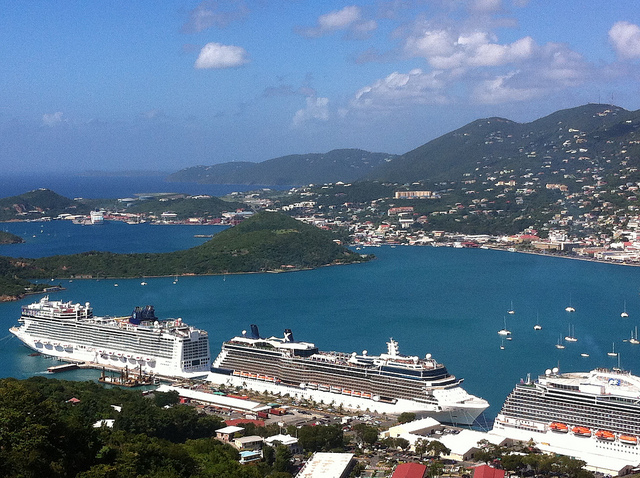cruise_ship: (210, 325, 481, 423), (4, 294, 207, 372), (490, 356, 639, 459)
